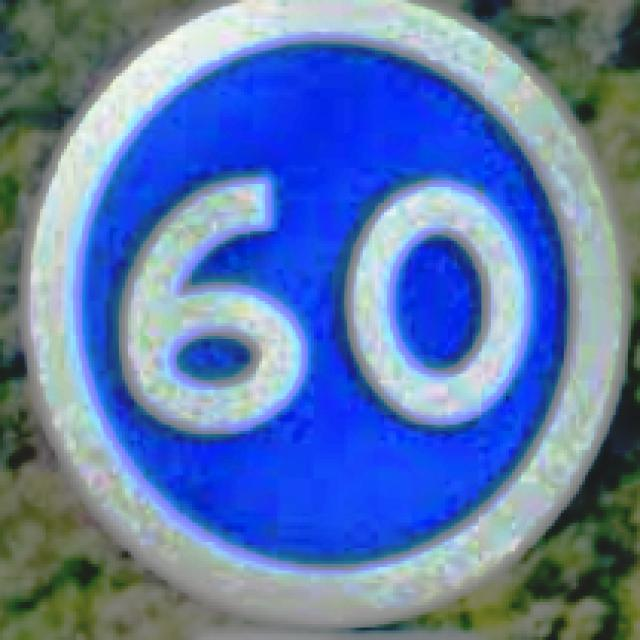min60: (18, 0, 630, 627)
